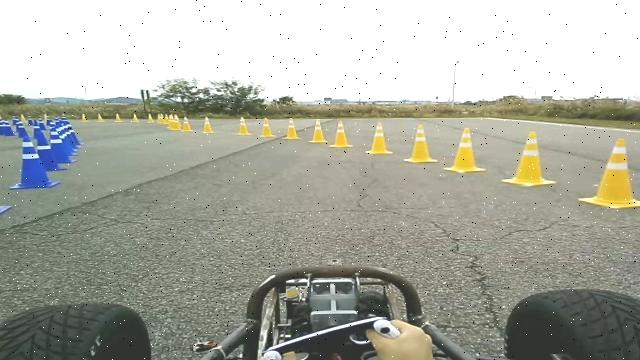blue cone: (8, 135, 60, 189), (40, 126, 74, 171), (32, 126, 51, 150), (0, 205, 12, 216)
yellow cone: (578, 138, 640, 208), (501, 131, 556, 186), (444, 126, 486, 173), (403, 124, 438, 163), (365, 122, 392, 154), (329, 120, 353, 148), (308, 118, 328, 142), (282, 118, 302, 140), (258, 116, 276, 138), (236, 116, 252, 135), (202, 115, 214, 134), (182, 116, 192, 132)
